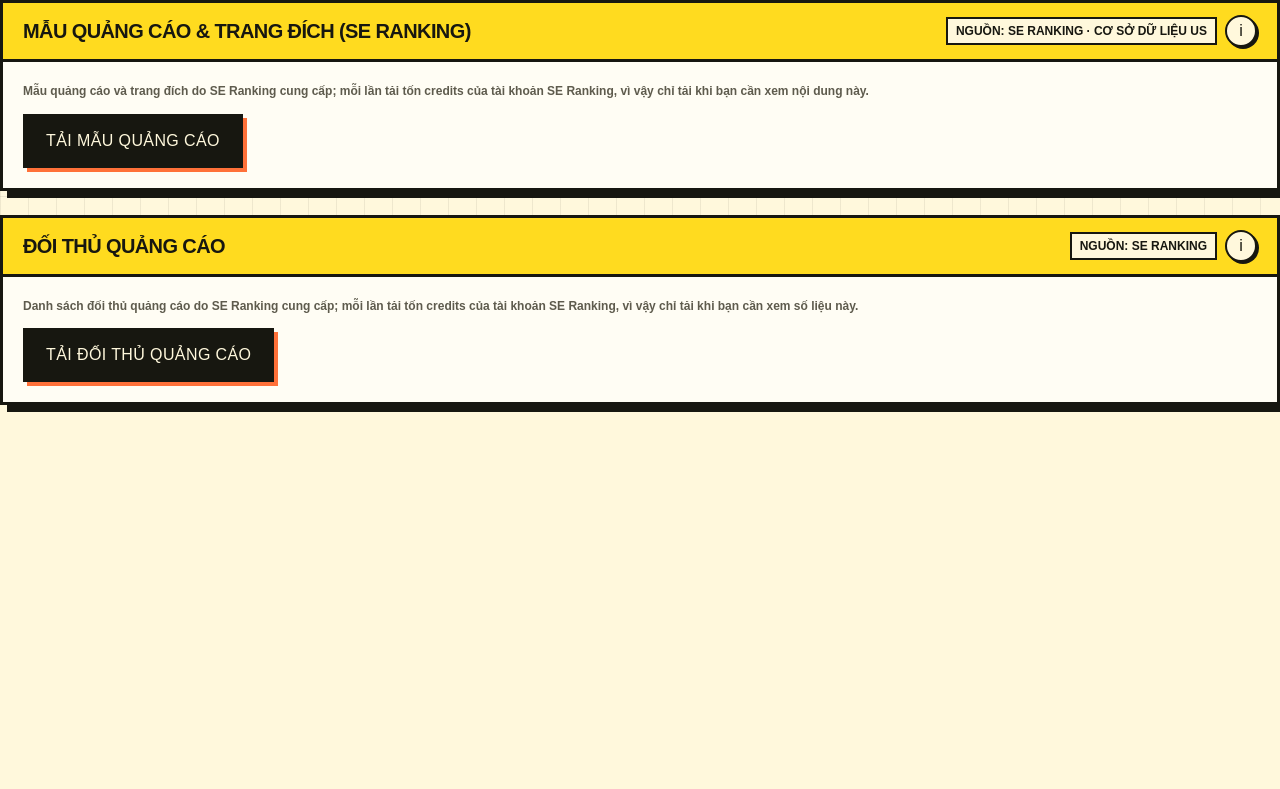
Test case: SerankingPanel › bấm Tải mẫu quảng cáo gọi đúng một lần /api/seranking/ads và hiển thị tối đa 10 thẻ
Click the button "Tải mẫu quảng cáo" at coordinates (133, 140), box 23,114 -> 243,168
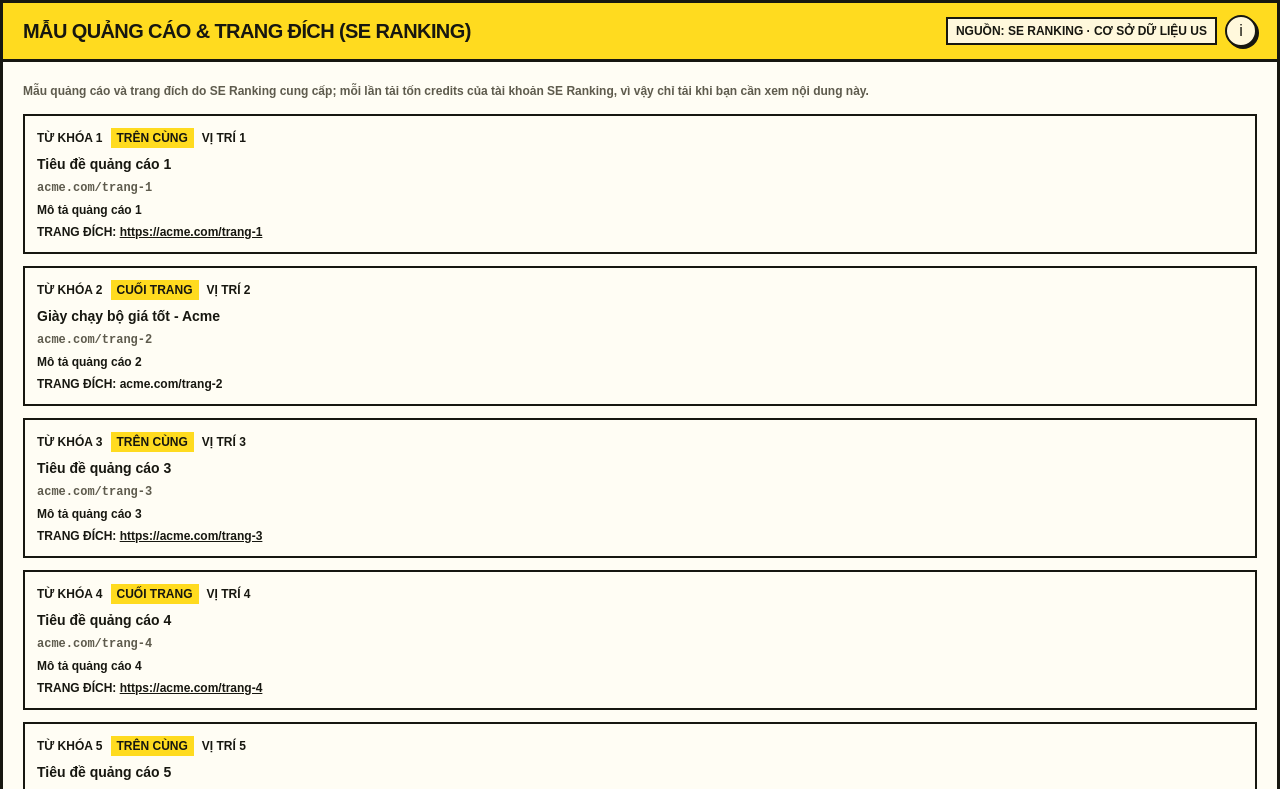
Expected: the number of list items is 10
Expected: the 1st text "Trên cùng" is shown, 110,128 -> 194,148
Expected: the text "Cuối trang" next to "từ khóa 2" is shown, 116,282 -> 192,296
